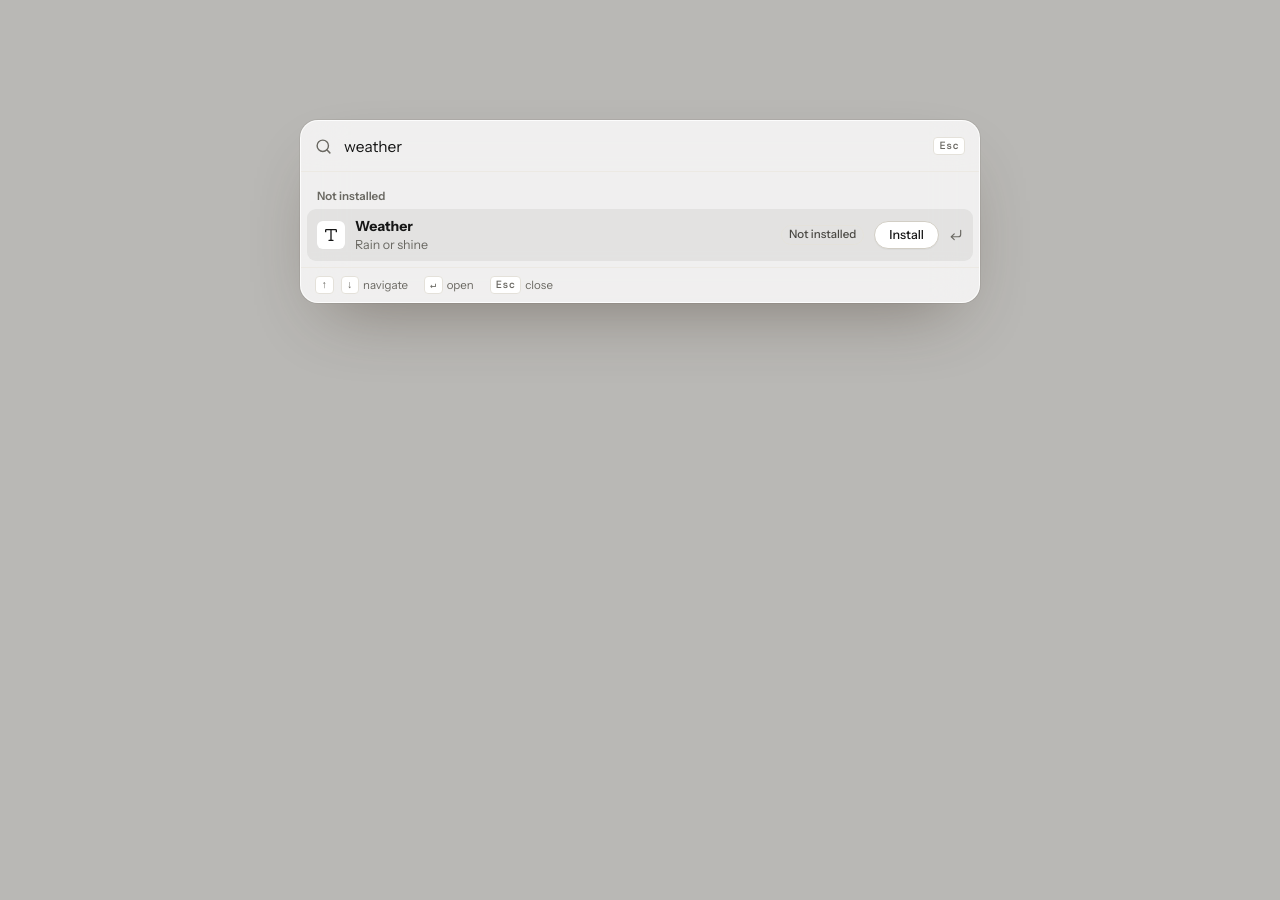
Test: Command palette: not-installed tools › asks before a store install, listing permissions and requirements
Later steps or results of the test are not shown.
Click the button "Install": (907, 235) [874,221,939,249]
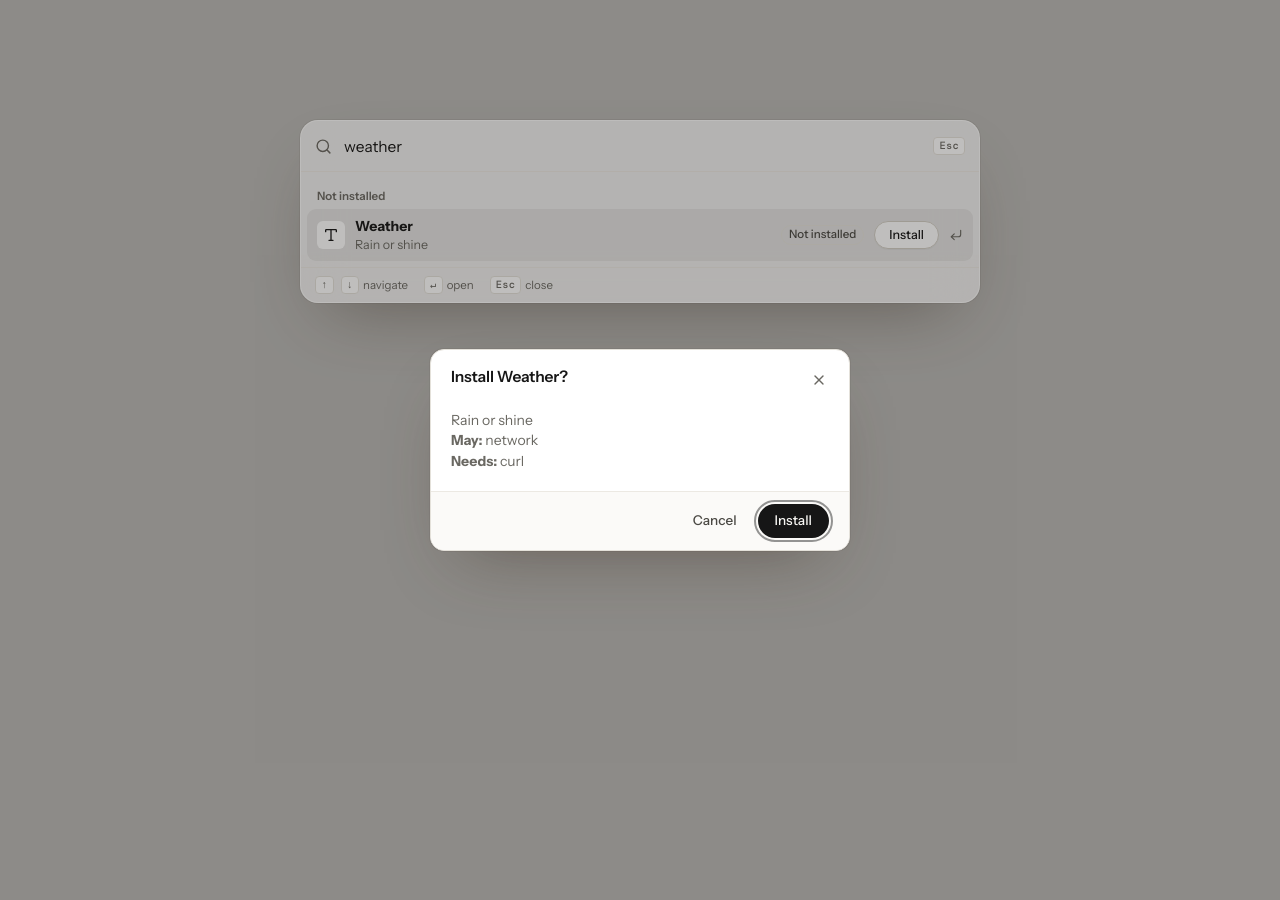
Expected: the heading "Install Weather?" is shown, [451,366,568,388]
Expected: the text "May: network" is shown, [451,431,538,449]
Expected: the text "Needs: curl" is shown, [451,452,524,470]
